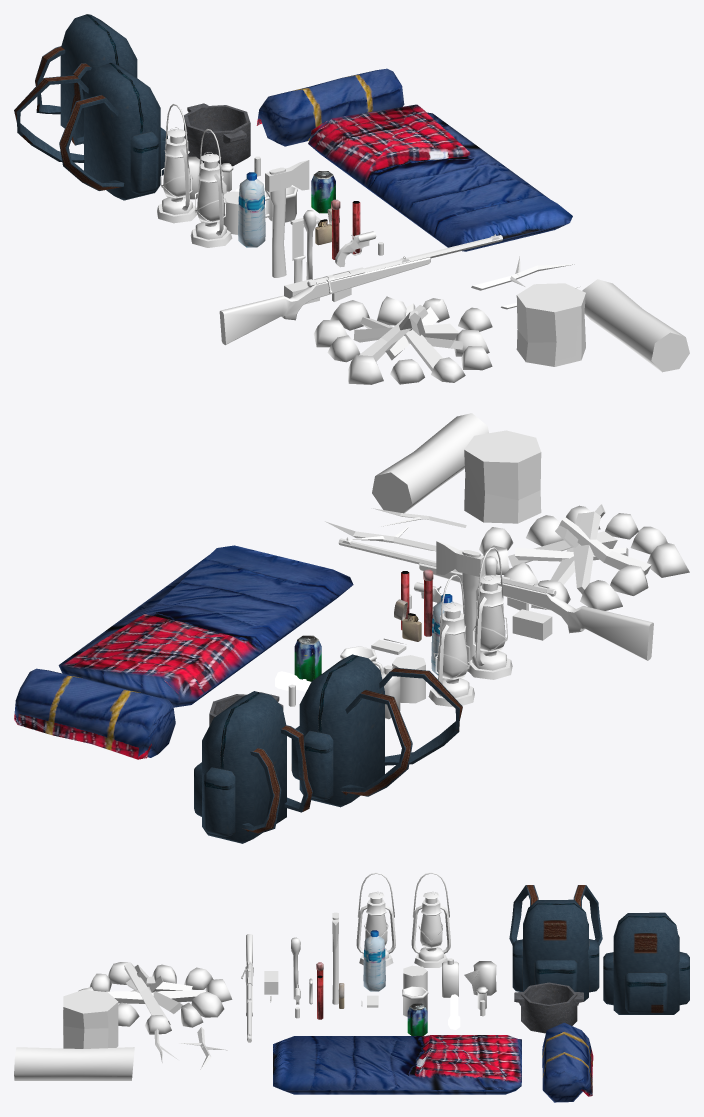
The picture shows the model from 3 angles, top to bottom: view 1: azimuth 30°, elevation 25°; view 2: azimuth 150°, elevation 25°; view 3: azimuth 270°, elevation 25°; orthographic projection. The views are drawn at different scales.
Visible parts, largest first — view 1: sleeping_bag, Backpack, bonfire, sleeping_bag_01, Trunk, Backpack.001, hunting_rifle, Trunk_01, Casserole, Farol, Axe, Water (+8 smaller); view 2: sleeping_bag, Backpack, Backpack.001, bonfire, sleeping_bag_01, Trunk, Trunk_01, hunting_rifle, Farol, Axe, Farol_G, Can_Soda (+5 smaller); view 3: sleeping_bag, Backpack, Backpack.001, bonfire, Trunk_01, sleeping_bag_01, Trunk, Casserole, Farol, Water, Farol_G, band (+8 smaller).
Part boxes in pixels (box(x1,y1,x2,y2)): sleeping_bag: box(308, 104, 572, 251); Backpack: box(14, 63, 167, 200); bonfire: box(313, 296, 492, 384); sleeping_bag_01: box(256, 68, 404, 146); Trunk: box(516, 283, 585, 366); Backpack.001: box(35, 14, 137, 145); hunting_rifle: box(219, 234, 502, 345); Trunk_01: box(582, 279, 689, 372); Casserole: box(184, 103, 250, 166); Farol: box(157, 127, 197, 223); Axe: box(265, 160, 309, 277); Water: box(238, 172, 265, 247); sleeping_bag: box(58, 545, 353, 707); Backpack: box(291, 654, 462, 807); Backpack.001: box(194, 691, 312, 843); bonfire: box(479, 504, 689, 610); sleeping_bag_01: box(14, 668, 175, 759); Trunk: box(464, 430, 541, 523); Trunk_01: box(372, 413, 488, 513); hunting_rifle: box(338, 537, 653, 660); Farol: box(428, 602, 474, 707); Axe: box(436, 541, 485, 671); Farol_G: box(467, 575, 512, 679); Can_Soda: box(294, 635, 321, 681); sleeping_bag: box(273, 1035, 521, 1094); Backpack: box(509, 885, 602, 1001); Backpack.001: box(603, 912, 689, 1014); bonfire: box(78, 962, 232, 1034); Trunk_01: box(14, 1047, 134, 1080); sleeping_bag_01: box(542, 1022, 593, 1102); Trunk: box(63, 989, 118, 1048); Casserole: box(514, 982, 583, 1033); Farol: box(411, 891, 450, 967); Water: box(363, 930, 385, 991); Farol_G: box(356, 891, 395, 966); band: box(464, 961, 496, 995).
Size of the model in its own units: 2.74 by 1.02 by 5.31.
26 materials, 8 textured.
